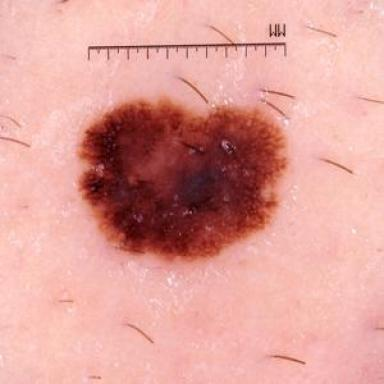Melanoma: (79, 99, 287, 259)
